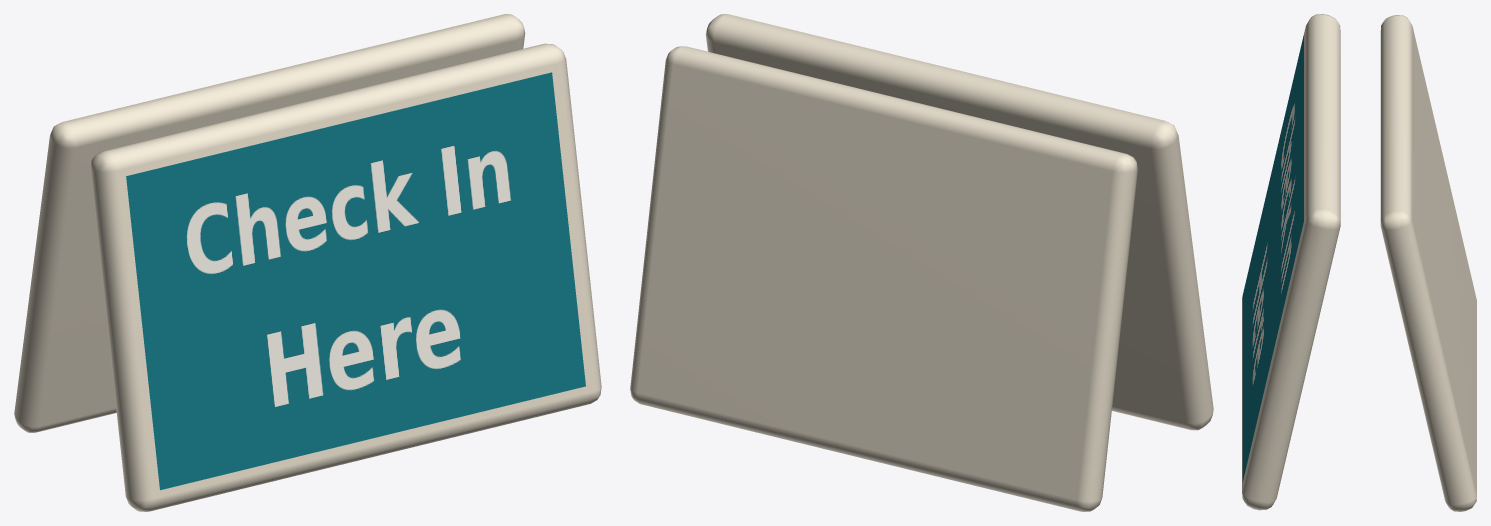
The model's file is Entrance_Check_In_Marker.glb.
The picture shows the model from 3 angles, left to right: view 1: azimuth 30°, elevation 25°; view 2: azimuth 150°, elevation 25°; view 3: azimuth 270°, elevation 25°; orthographic projection. The views are drawn at different scales.
Parts seen in each view (by area): view 1: Entrance_Check_In_Marker__Entrance_Opaque_Graphics_Atlas, Entrance_Check_In_Marker__CRNA_Shared_Matte_Atlas; view 2: Entrance_Check_In_Marker__CRNA_Shared_Matte_Atlas; view 3: Entrance_Check_In_Marker__CRNA_Shared_Matte_Atlas, Entrance_Check_In_Marker__Entrance_Opaque_Graphics_Atlas.
Part boxes in pixels (x1,y1,x2,y2): Entrance_Check_In_Marker__Entrance_Opaque_Graphics_Atlas: (126,72,585,490); Entrance_Check_In_Marker__CRNA_Shared_Matte_Atlas: (14,14,601,511); Entrance_Check_In_Marker__CRNA_Shared_Matte_Atlas: (630,14,1213,511); Entrance_Check_In_Marker__CRNA_Shared_Matte_Atlas: (1242,14,1476,511); Entrance_Check_In_Marker__Entrance_Opaque_Graphics_Atlas: (1242,35,1303,481).
Bounding box in the file's own units: 0.33 × 0.2248 × 0.1589.
2 materials, 2 textured.
